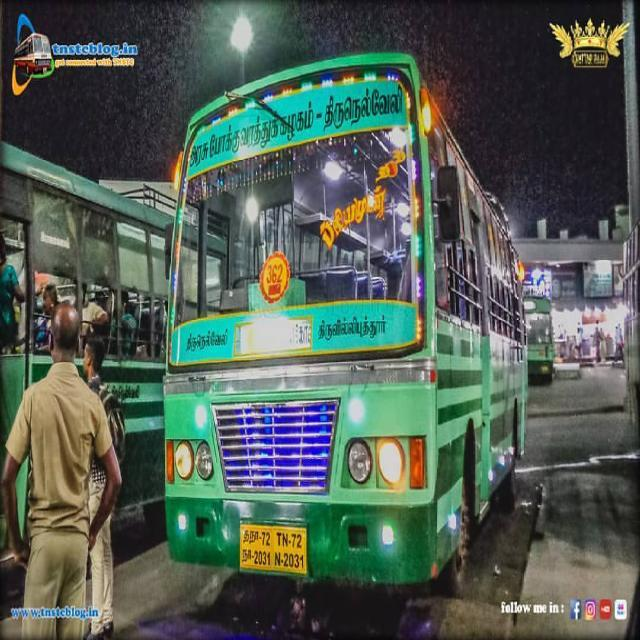Bus: (150, 48, 530, 604), (1, 134, 164, 566), (522, 292, 554, 374)
